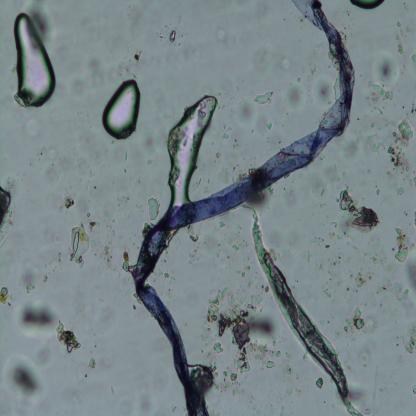Air bubble: (168, 90, 218, 207), (14, 12, 57, 110), (101, 75, 143, 141), (349, 0, 388, 12)
Background material: (208, 286, 262, 343), (2, 352, 47, 409), (338, 186, 380, 234), (352, 271, 410, 305), (16, 297, 61, 337), (389, 117, 416, 171), (0, 174, 17, 249), (248, 311, 284, 345), (66, 224, 90, 269), (192, 358, 222, 394), (45, 145, 70, 184), (112, 52, 145, 78), (282, 76, 306, 110), (56, 322, 82, 353), (231, 94, 255, 126), (31, 2, 55, 33), (14, 260, 38, 291), (374, 56, 398, 84), (250, 42, 271, 73), (102, 232, 119, 270), (393, 229, 413, 261), (97, 193, 131, 211), (348, 306, 368, 336), (238, 342, 256, 374), (339, 136, 362, 161), (393, 20, 408, 58), (366, 80, 394, 100), (352, 345, 372, 373), (186, 226, 201, 263), (315, 77, 334, 106), (158, 26, 183, 48), (277, 346, 294, 376), (252, 115, 275, 137), (22, 115, 40, 142), (404, 253, 416, 293), (403, 324, 416, 356), (102, 304, 120, 326), (367, 134, 385, 155), (234, 263, 253, 282), (252, 90, 274, 106), (370, 362, 378, 406), (121, 250, 135, 275), (233, 234, 250, 254), (146, 196, 160, 220), (210, 24, 226, 44), (0, 286, 13, 309), (86, 352, 96, 376), (282, 52, 292, 73), (314, 374, 326, 391), (64, 195, 77, 208), (408, 378, 416, 397), (210, 148, 222, 160), (213, 342, 225, 354), (309, 236, 326, 244), (230, 373, 242, 383), (396, 186, 406, 198), (266, 358, 275, 370), (228, 138, 237, 149), (217, 219, 226, 229)
Cellulose filter fibre: (245, 202, 359, 412)
Cotton: (134, 0, 352, 414)
